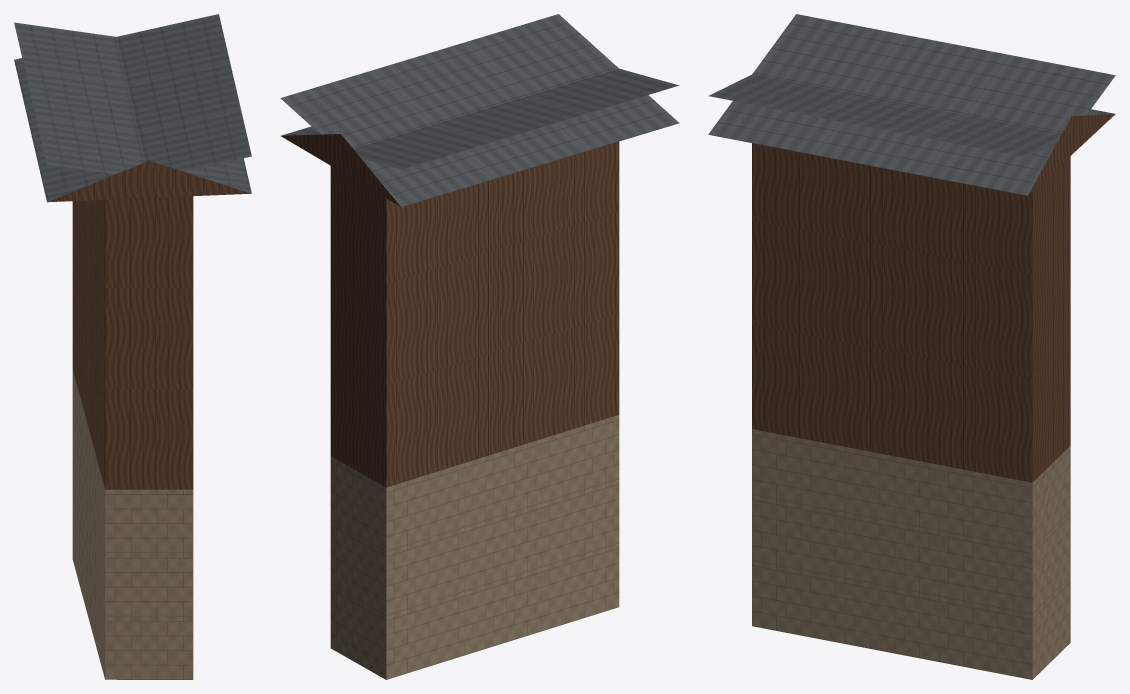
Rendered from bld_c0_-3_553.gltf.
3 views of the same model, side by side, from view 1: azimuth 30°, elevation 25°; view 2: azimuth 150°, elevation 25°; view 3: azimuth 270°, elevation 25° (orthographic). The views are drawn at different scales.
Visible parts, largest first — view 1: bld_c0_-3_553; view 2: bld_c0_-3_553; view 3: bld_c0_-3_553.
Boxes of the visible parts, bbox=[...] form: bld_c0_-3_553: bbox=[14, 14, 251, 679]; bld_c0_-3_553: bbox=[280, 14, 679, 679]; bld_c0_-3_553: bbox=[708, 14, 1115, 679].
Size of the model in its own units: 7.95 by 14.2 by 9.56.
Materials: 4 (4 with a texture image).
